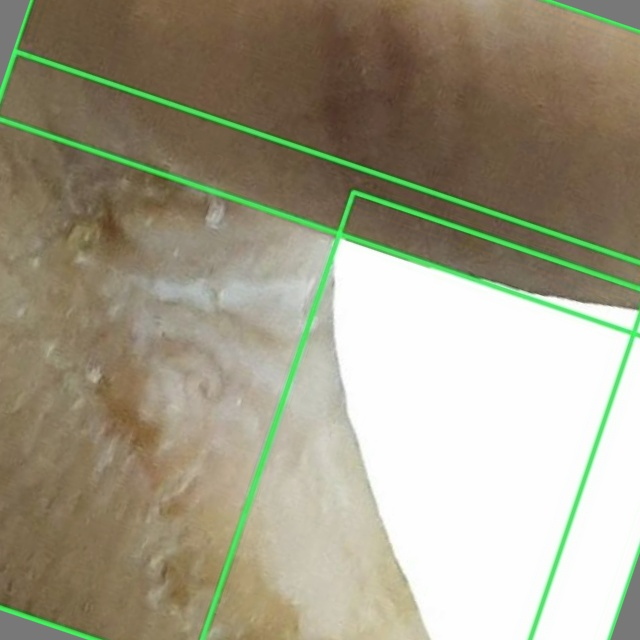Scabies: (0, 52, 639, 639), (0, 0, 639, 335), (202, 192, 639, 639)
